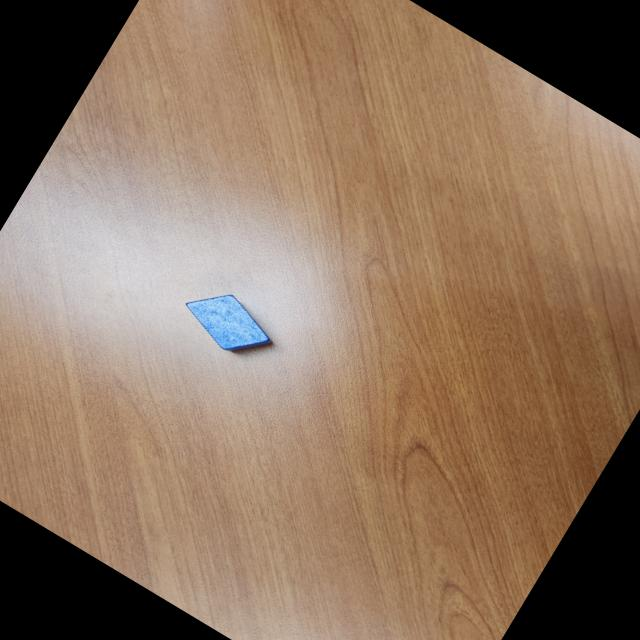blue: (174, 276, 284, 370)
